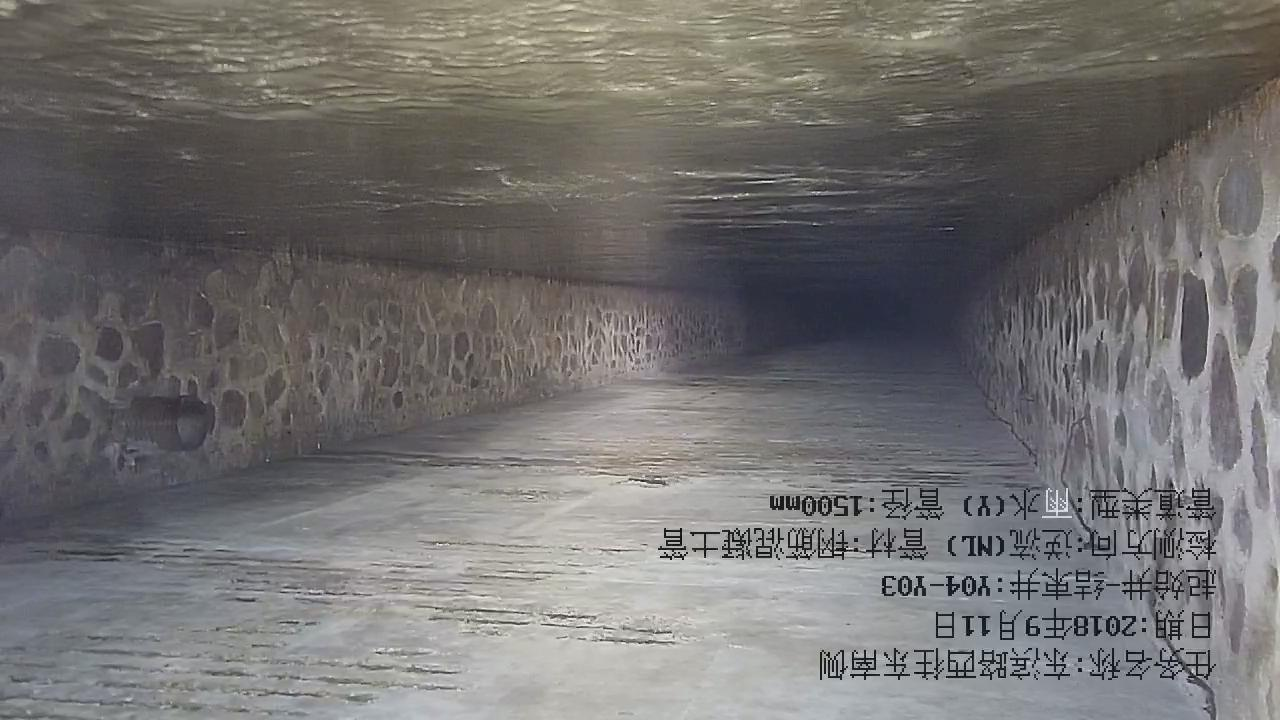ZGAJ: (121, 397, 214, 452)
